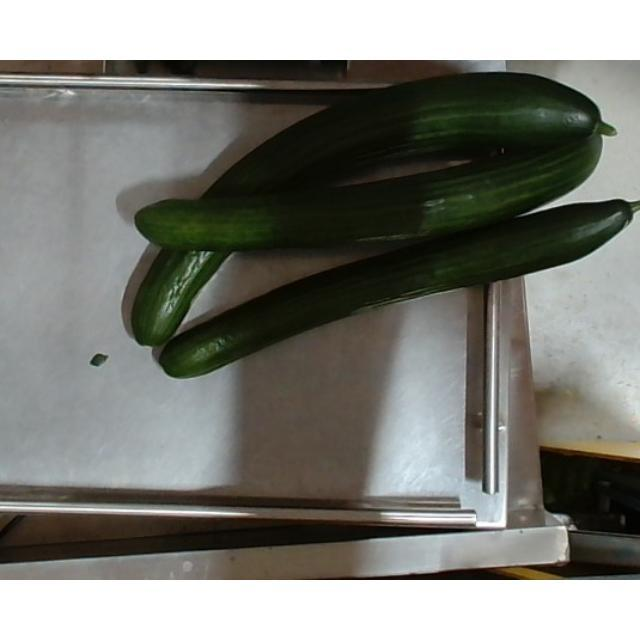cucumber: (133, 72, 617, 346), (162, 199, 638, 379), (134, 122, 604, 250)
